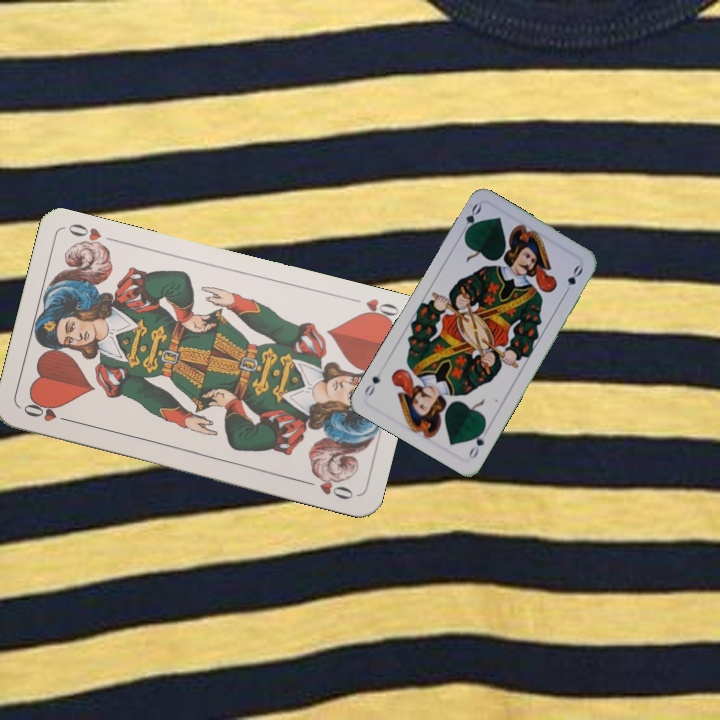GO: (456, 199, 484, 239), (465, 423, 490, 461)
HO: (354, 294, 403, 326), (19, 400, 76, 426)
